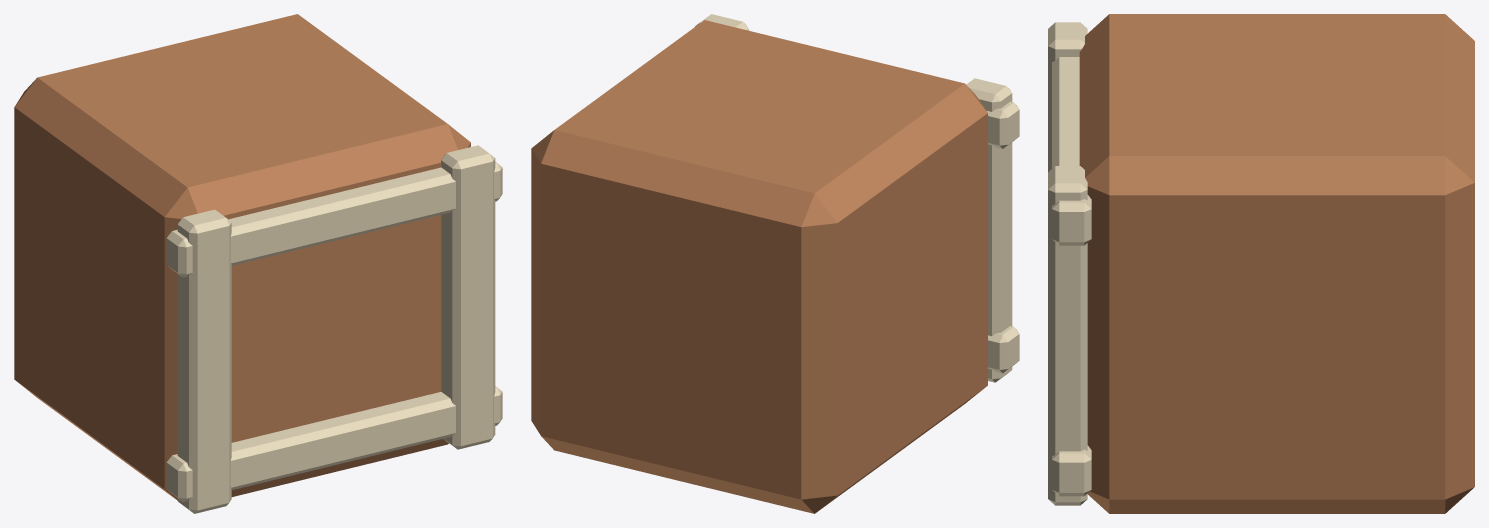
Rendered from hsc3_crate.glb.
3 renders of one model, left to right at view 1: azimuth 30°, elevation 25°; view 2: azimuth 150°, elevation 25°; view 3: azimuth 270°, elevation 25°, orthographic. The views are drawn at different scales.
Parts seen in each view (by area): view 1: hsc3_crate__hsc3-roasted-copper, hsc3_crate__hsc3-cream-enamel; view 2: hsc3_crate__hsc3-roasted-copper, hsc3_crate__hsc3-cream-enamel; view 3: hsc3_crate__hsc3-roasted-copper, hsc3_crate__hsc3-cream-enamel.
Part boxes in pixels (box(x1,y1,x2,y2)): hsc3_crate__hsc3-roasted-copper: box(14, 14, 470, 500); hsc3_crate__hsc3-cream-enamel: box(166, 145, 502, 513); hsc3_crate__hsc3-roasted-copper: box(531, 20, 987, 513); hsc3_crate__hsc3-cream-enamel: box(695, 14, 1019, 382); hsc3_crate__hsc3-roasted-copper: box(1079, 14, 1474, 513); hsc3_crate__hsc3-cream-enamel: box(1048, 22, 1091, 505).
Size of the model in its own units: 1.06 by 1 by 1.08.
